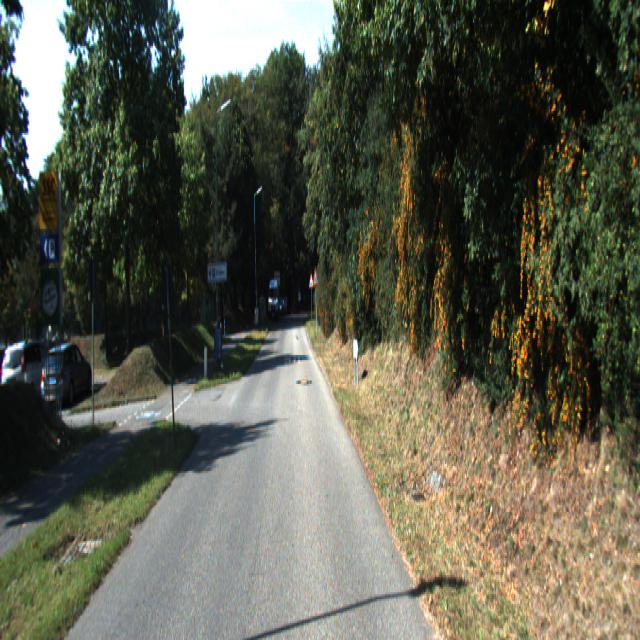Car: (1, 338, 62, 413), (41, 340, 94, 410)
